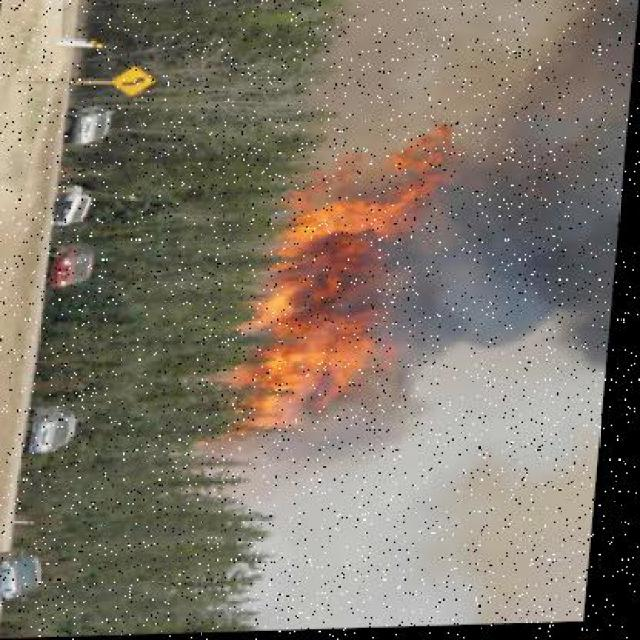fire: (240, 132, 457, 464)
